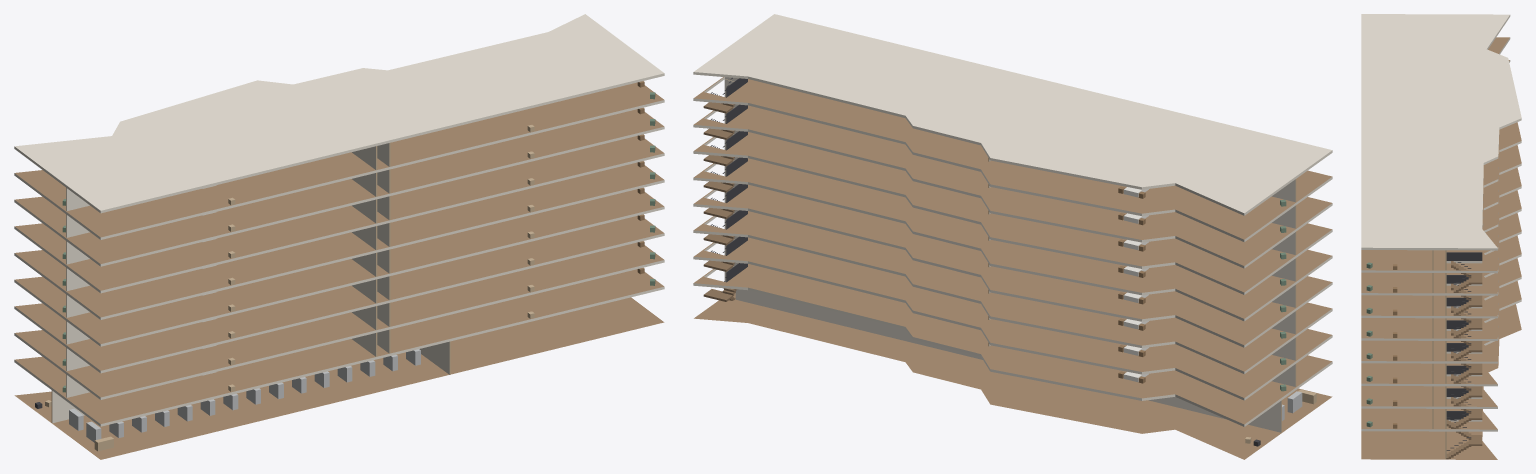
File: interior.glb
3 renders of one model, left to right at view 1: azimuth 30°, elevation 25°; view 2: azimuth 150°, elevation 25°; view 3: azimuth 270°, elevation 25°, orthographic. The views are drawn at different scales.
Parts seen in each view (by area): view 1: slabs, partitions, coarse-s0; view 2: slabs, partitions, stair; view 3: slabs, stair, partitions.
Boxes of the visible parts, box(x1,y1,x2,y2) form: slabs: box(14, 14, 664, 459); partitions: box(51, 142, 450, 423); coarse-s0: box(35, 349, 420, 451); slabs: box(693, 14, 1332, 459); partitions: box(724, 77, 1296, 432); stair: box(703, 77, 747, 301); slabs: box(1361, 14, 1521, 459); stair: box(1446, 252, 1482, 459); partitions: box(1432, 250, 1446, 459).
Size of the model in its own units: 59.42 by 25.05 by 17.21.
